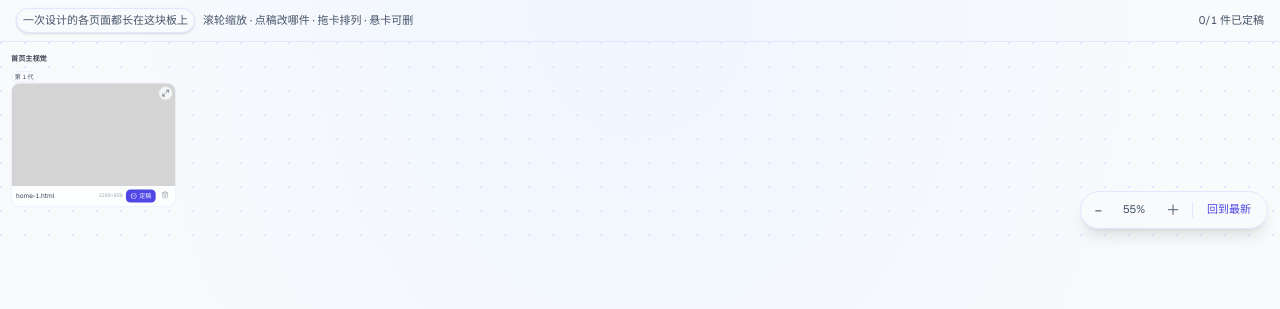
Test: DesignCanvas · 滚轮缩放（0.3–1.6 指向光标） › 缩放控件：＋/− 按钮 0.15 档步进（视口中心锚）
The image size is (1280, 309).
Click the button named "放大". click: point(1173, 210)
box: [1158,196,1188,224]
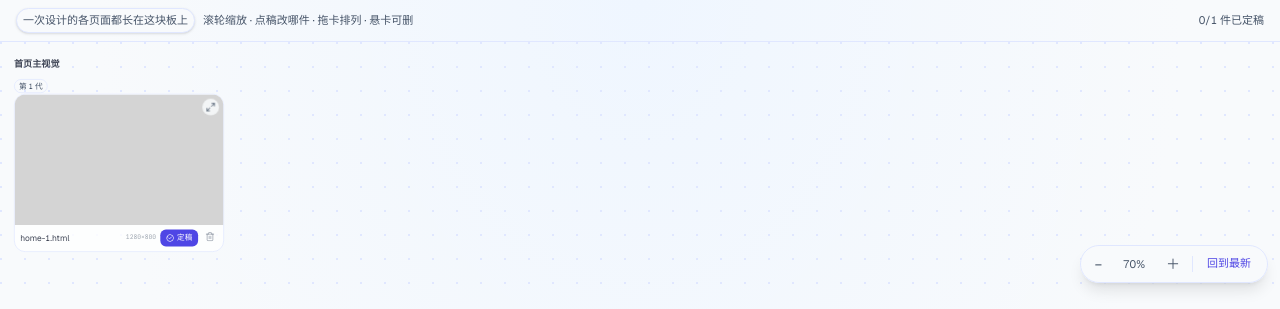
Now the button titled "回到 55%" reads "70%", box [1112,255,1156,274]
Click the button named "缩小". click: point(1098, 264)
box: [1087,250,1110,279]
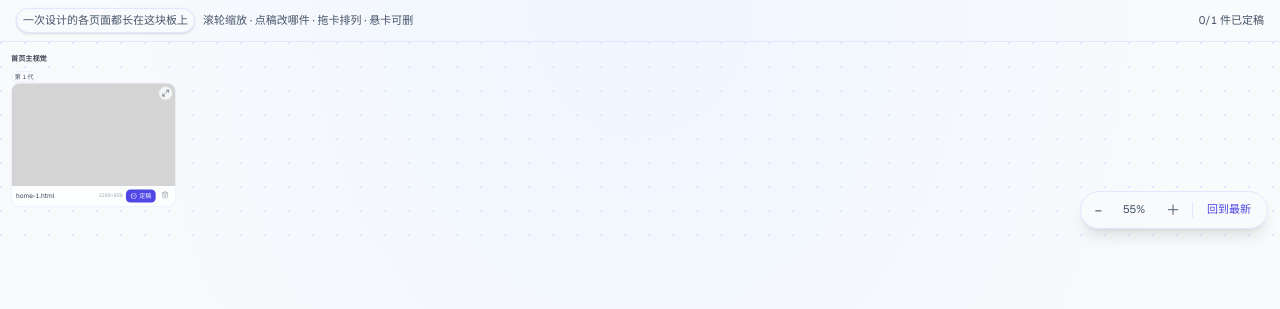
Now the button titled "回到 55%" is shown, box [1112,200,1156,220]
